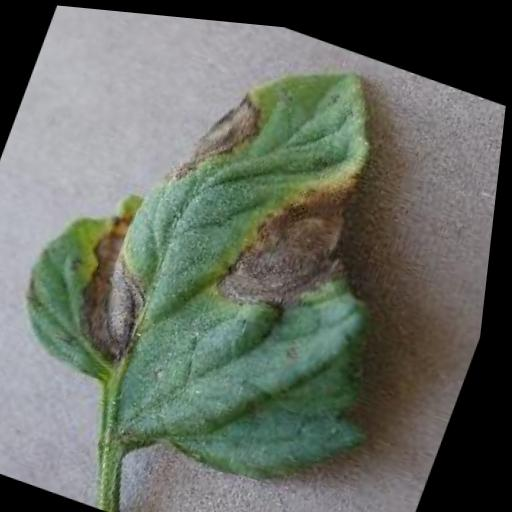Early Blight: (0, 2, 488, 512)
